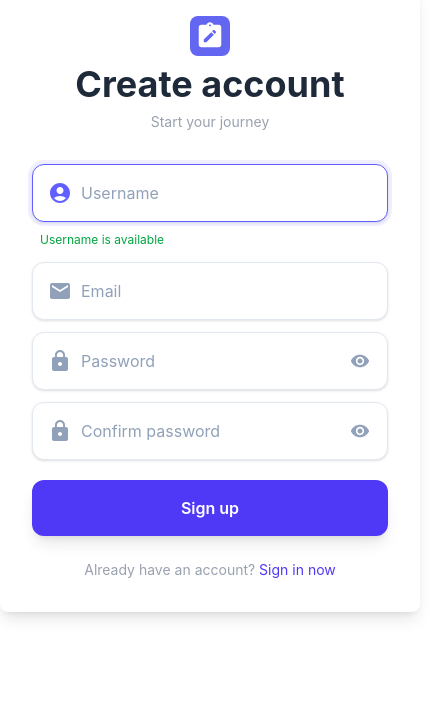
Test: RegisterCard › validation: shows error when display_name is empty
The image size is (436, 704).
Click the button "Sign up" at [210, 508], box [32,480,388,536]
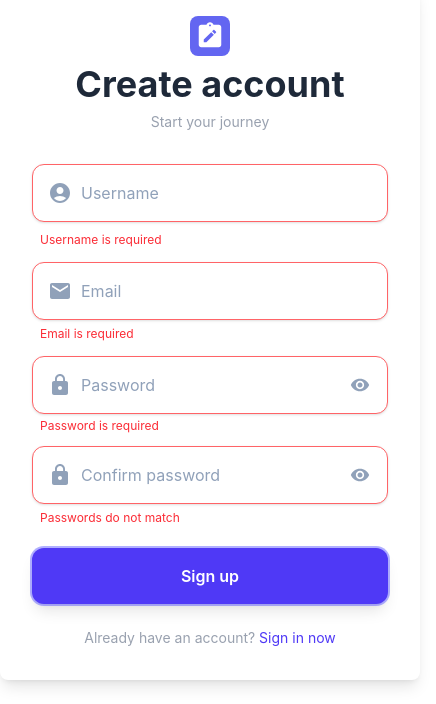
expect the text "Username is required" is shown: met, box [40,232,162,247]
